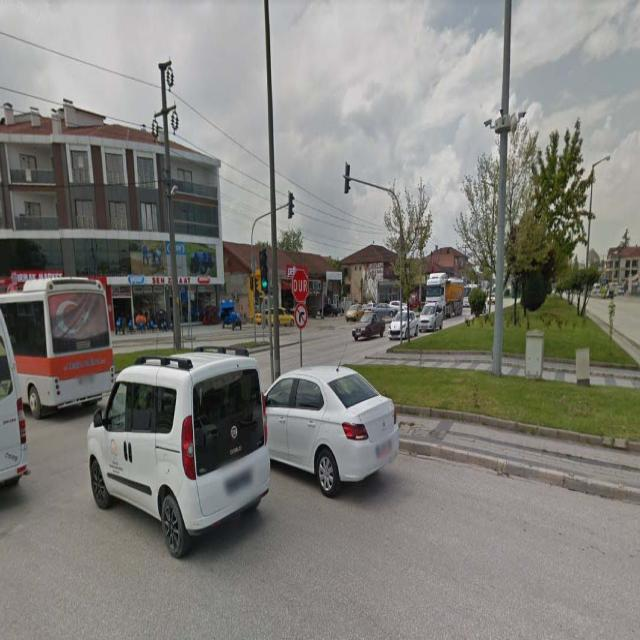dur: (291, 270, 309, 302)
sagadonulmez: (294, 303, 308, 330)
yesil: (259, 251, 268, 291)
